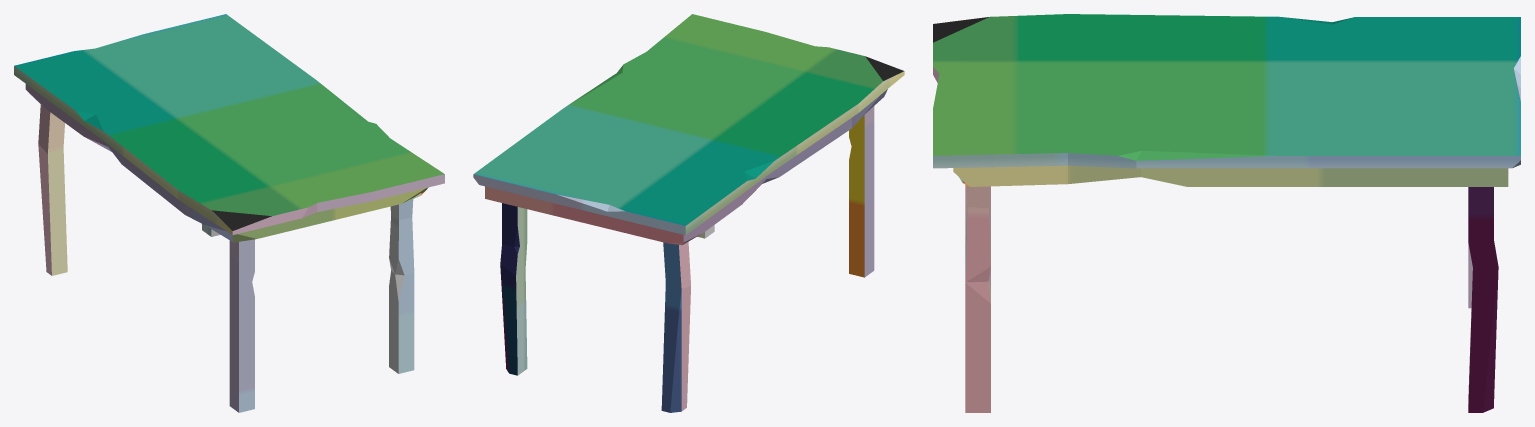
File: study_table.fbx
The picture shows the model from 3 angles, left to right: view 1: azimuth 30°, elevation 25°; view 2: azimuth 150°, elevation 25°; view 3: azimuth 270°, elevation 25°; orthographic projection. The views are drawn at different scales.
Visible parts, largest first — view 1: study_table; view 2: study_table; view 3: study_table.
Part boxes in pixels (box(x1,y1,x2,y2)): study_table: box(14, 14, 444, 412); study_table: box(473, 14, 904, 412); study_table: box(933, 14, 1520, 412).
Bounding box in the file's own units: 0.9098 × 0.8051 × 1.59.
